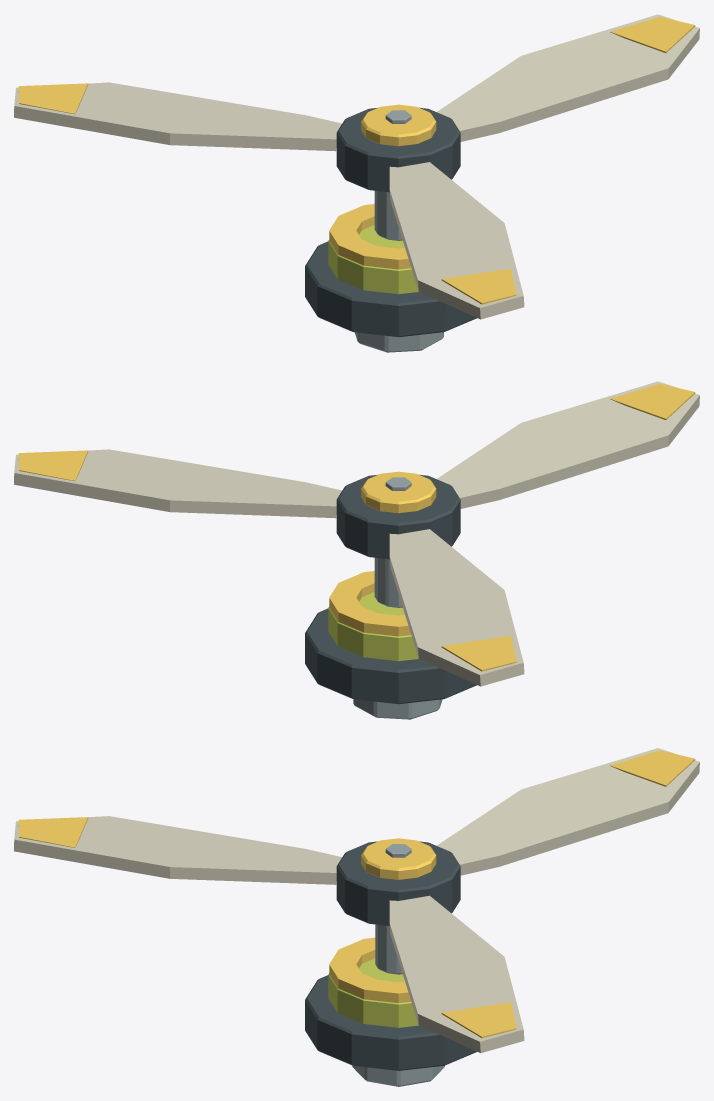
The model's file is rotor.glb.
3 views of the same model, one above another, from view 1: azimuth 30°, elevation 25°; view 2: azimuth 150°, elevation 25°; view 3: azimuth 270°, elevation 25° (orthographic).
Visible parts, largest first — view 1: Rotor_Mesh, Flight_Module_Mesh; view 2: Rotor_Mesh, Flight_Module_Mesh; view 3: Rotor_Mesh, Flight_Module_Mesh.
Part boxes in pixels (x1=…): Rotor_Mesh: x1=14, y1=14, x2=699, y2=319; Flight_Module_Mesh: x1=305, y1=190, x2=476, y2=352; Rotor_Mesh: x1=14, y1=381, x2=699, y2=686; Flight_Module_Mesh: x1=305, y1=557, x2=476, y2=719; Rotor_Mesh: x1=14, y1=748, x2=699, y2=1053; Flight_Module_Mesh: x1=305, y1=924, x2=476, y2=1086.
Bounding box in the file's own units: 1.3 × 0.4565 × 1.29.
